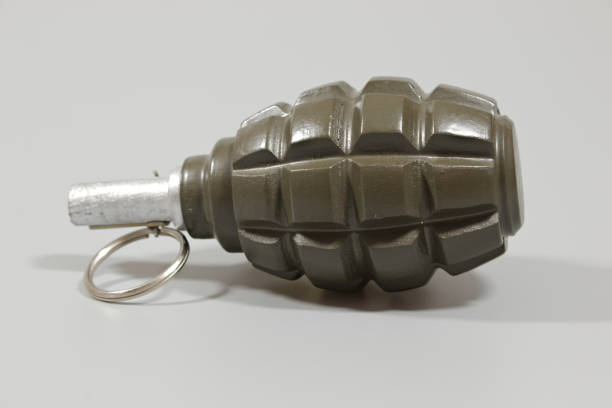e1: (71, 75, 529, 306)
